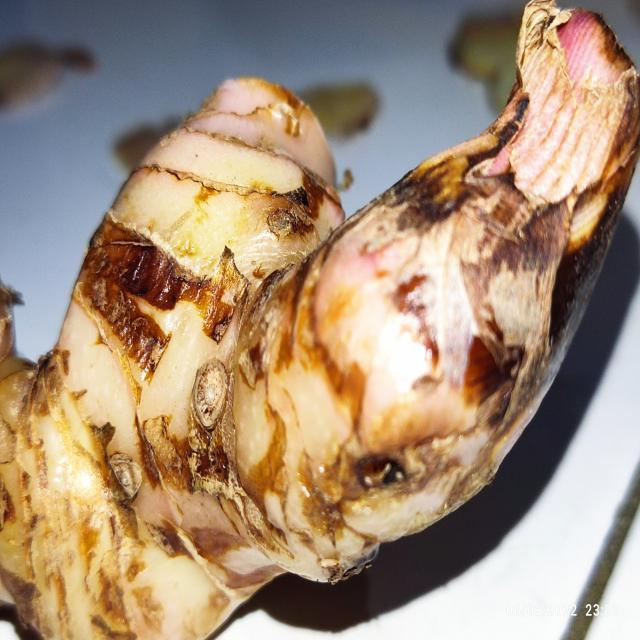ginger: (10, 22, 615, 640)
